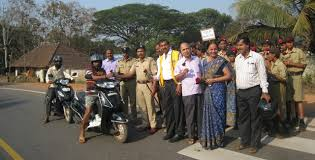helmet: (86, 52, 108, 73), (47, 55, 63, 67)
